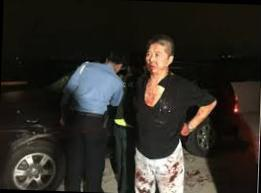Drunk: (146, 42, 167, 74)
